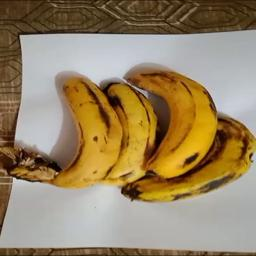Banana Semifresh: (7, 74, 121, 191)
